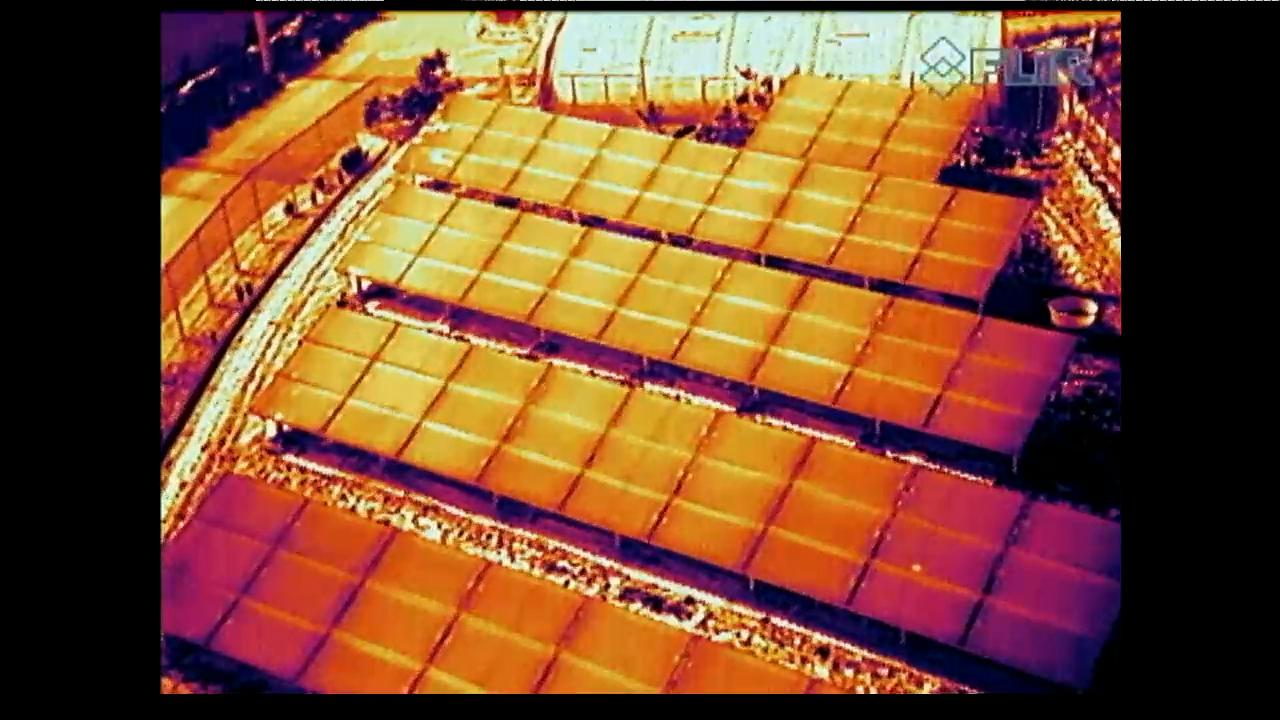hotspot: (847, 465, 1028, 656)
